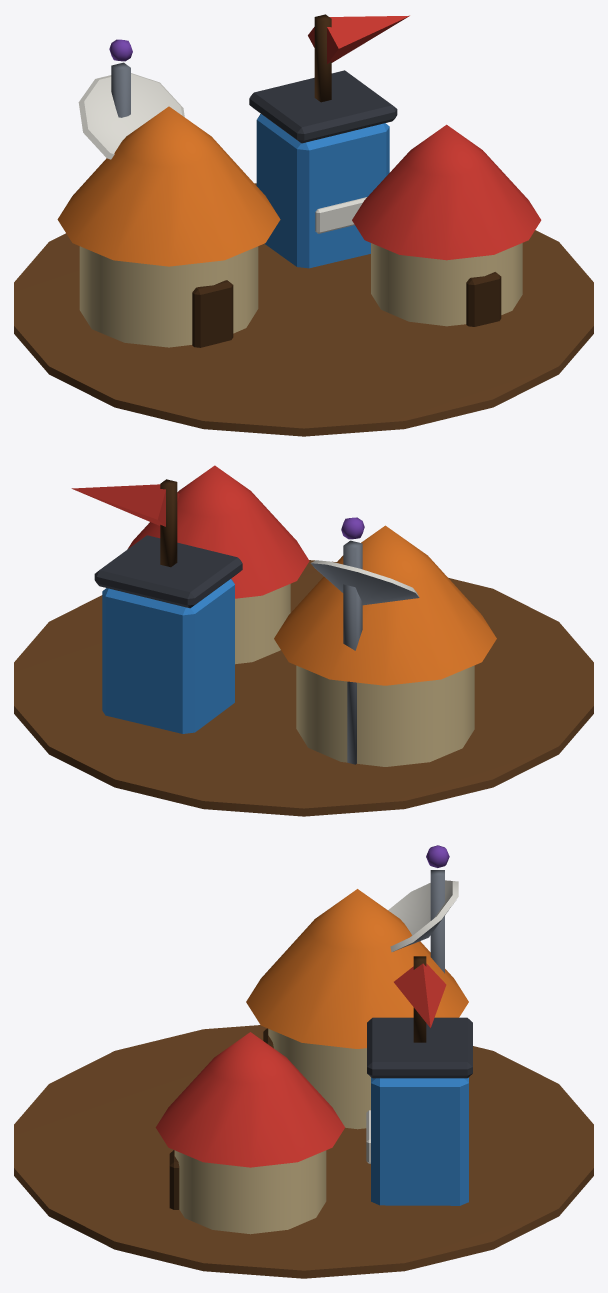
3 views of the same model, one above another, from view 1: azimuth 30°, elevation 25°; view 2: azimuth 150°, elevation 25°; view 3: azimuth 270°, elevation 25° (orthographic).
Visible parts, largest first — view 1: vila_0_base, vila_1_torreta; view 2: vila_0_base, vila_1_torreta; view 3: vila_0_base, vila_1_torreta.
Part boxes in pixels (left/top/right/bottom): vila_0_base: left=14, top=39, right=593, bottom=436; vila_1_torreta: left=308, top=14, right=409, bottom=102; vila_0_base: left=14, top=465, right=593, bottom=816; vila_1_torreta: left=71, top=479, right=179, bottom=567; vila_0_base: left=14, top=845, right=593, bottom=1278; vila_1_torreta: left=394, top=956, right=446, bottom=1042.
Bounding box in the file's own units: 1.32 × 0.6267 × 1.3.
